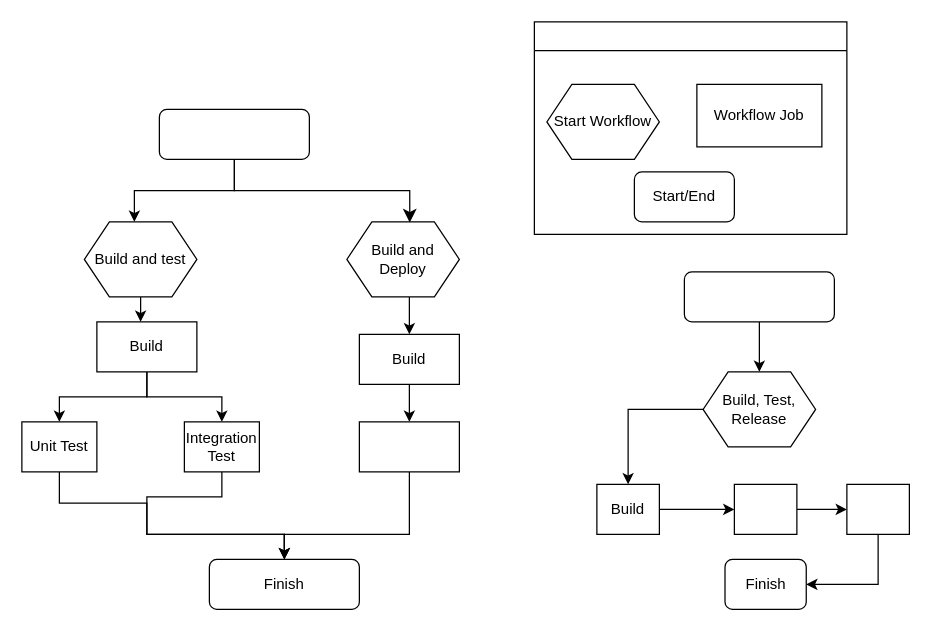
Image size: 931x631. Some labels were removed from this diagram. The shapes that lost their labels are listed below. From the top down, each one's centre as x and y in pixels, then its label:
At pixel 233 133: "Push to Main Branch".
At pixel 690 127: "Legend".
At pixel 758 296: "New Tag Pushed to Main Branch".
At pixel 408 446: "Deploy".
At pixel 765 508: "Test".
At pixel 877 508: "Release".
